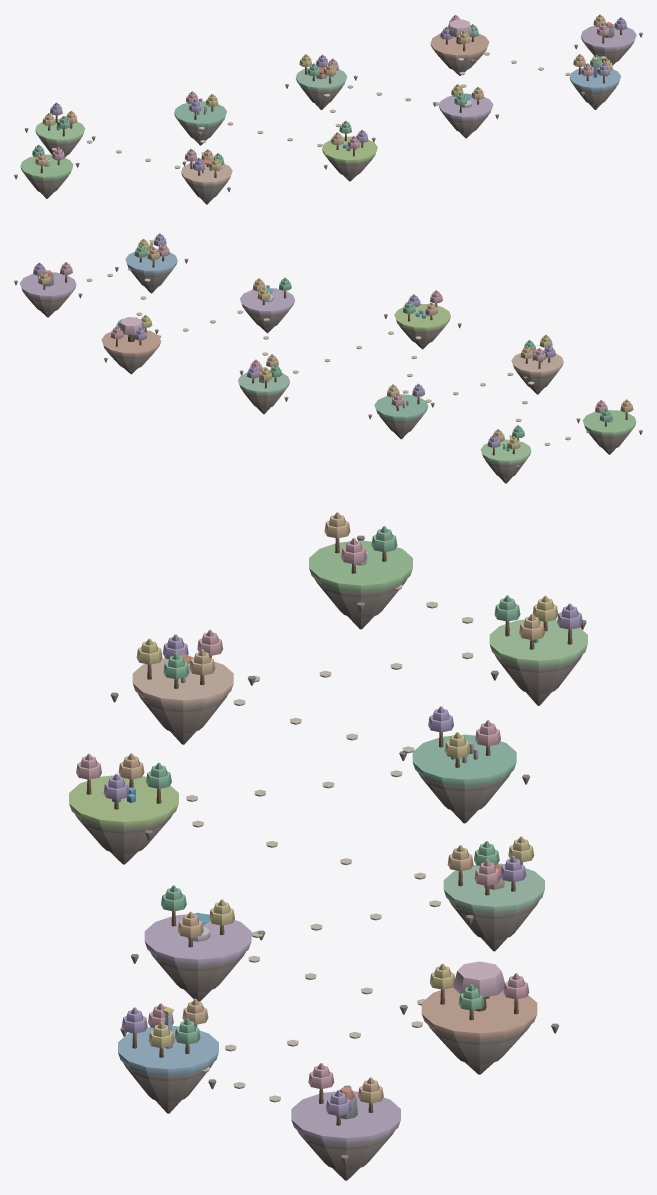
File: islands.glb
3 renders of one model, top to bottom at view 1: azimuth 30°, elevation 25°; view 2: azimuth 150°, elevation 25°; view 3: azimuth 270°, elevation 25°, orthographic. The views are drawn at different scales.
Visible parts, largest first — view 1: ArchipelagoMesh; view 2: ArchipelagoMesh; view 3: ArchipelagoMesh.
Boxes of the visible parts, x1,y1,x2,y2 form: ArchipelagoMesh: (14, 14, 642, 204); ArchipelagoMesh: (14, 233, 642, 483); ArchipelagoMesh: (69, 512, 587, 1180).
Bounding box in the file's own units: 97.34 × 9.75 × 35.02.
